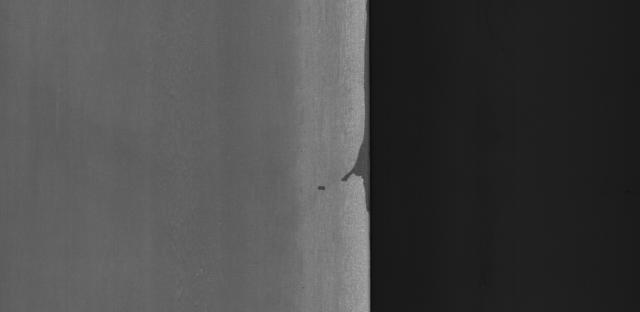water_spot: (314, 104, 382, 216)
